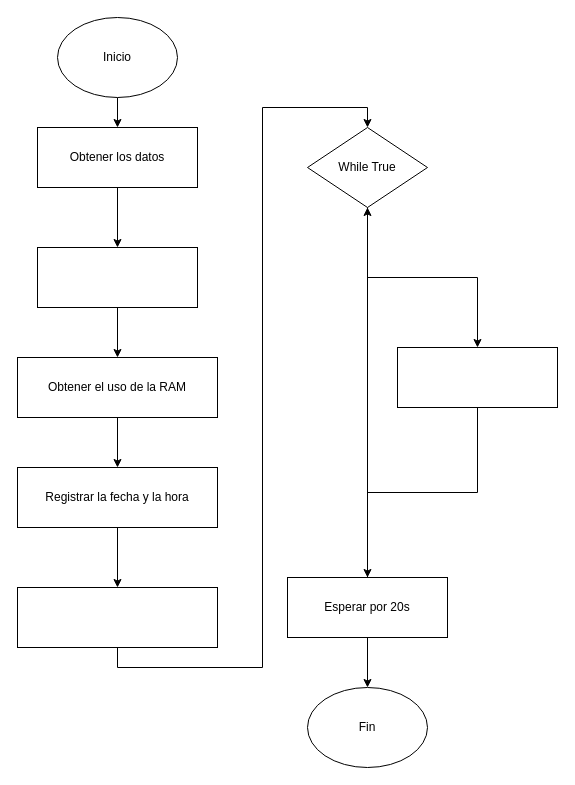
This 575x785 diagram has some shape labels left out. The box of each missing label's shape, as (x1, y1, x2, y2) in pixels:
Imprimir datos: (396, 346, 558, 408)
Obtener el uso de CPU: (36, 246, 198, 308)
Retornar JSON con datos: (16, 586, 218, 648)
